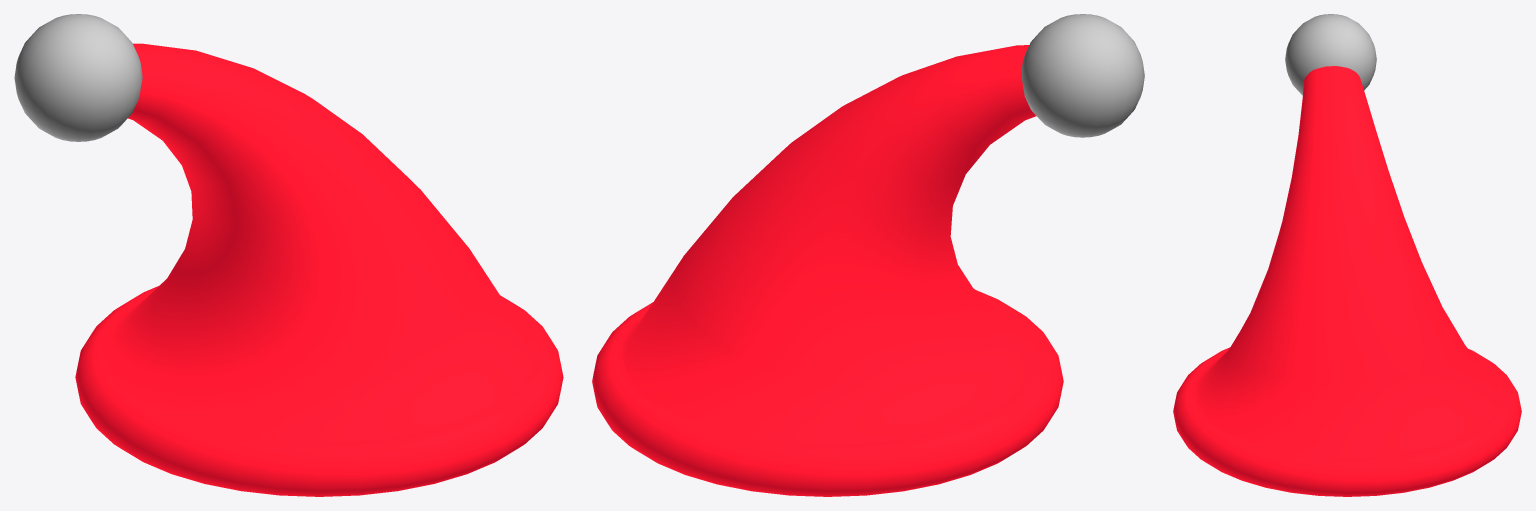
Rendered from Hat4.fbx.
3 views of the same model, side by side, from view 1: azimuth 30°, elevation 25°; view 2: azimuth 150°, elevation 25°; view 3: azimuth 270°, elevation 25° (orthographic). The views are drawn at different scales.
Visible parts, largest first — view 1: Santa_Hat, Sphere; view 2: Santa_Hat, Sphere; view 3: Santa_Hat, Sphere.
Boxes of the visible parts, x1=… form: Santa_Hat: x1=75, y1=43, x2=563, y2=496; Sphere: x1=14, y1=14, x2=142, y2=141; Santa_Hat: x1=592, y1=45, x2=1063, y2=496; Sphere: x1=1021, y1=14, x2=1144, y2=137; Santa_Hat: x1=1173, y1=66, x2=1521, y2=496; Sphere: x1=1285, y1=14, x2=1376, y2=95.
Bounding box in the file's own units: 593 × 495 × 483.
